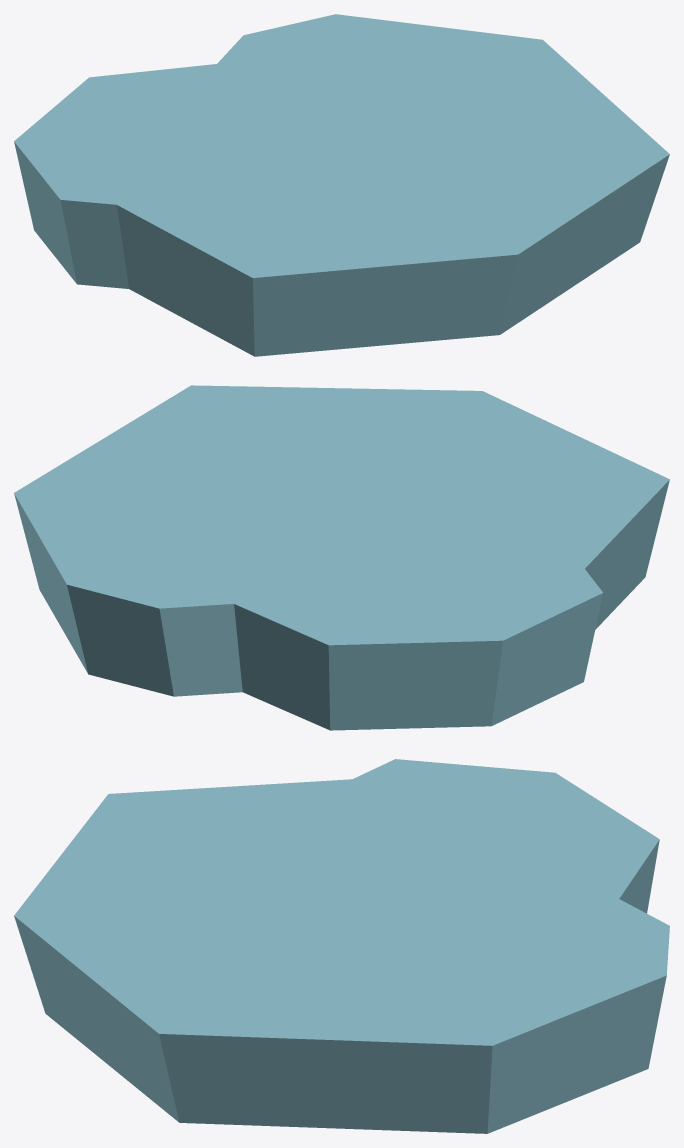
The model's file is floe01.fbx.
The picture shows the model from 3 angles, top to bottom: view 1: azimuth 30°, elevation 25°; view 2: azimuth 150°, elevation 25°; view 3: azimuth 270°, elevation 25°; orthographic projection. The views are drawn at different scales.
Visible parts, largest first — view 1: floe01; view 2: floe01; view 3: floe01.
Part boxes in pixels (bbox=[...]): floe01: bbox=[14, 14, 669, 356]; floe01: bbox=[14, 385, 669, 730]; floe01: bbox=[14, 759, 669, 1133].
Size of the model in its own units: 2.27 by 0.3695 by 2.19.
